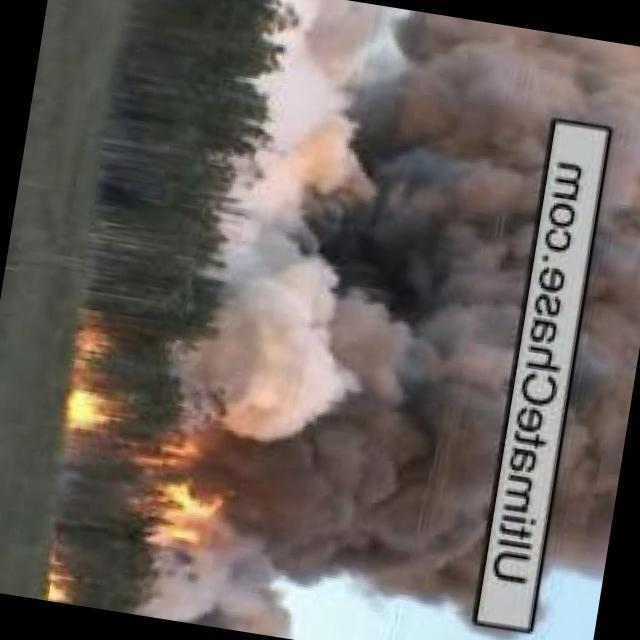Fire: (145, 447, 241, 560), (63, 388, 121, 436), (43, 554, 88, 607), (72, 329, 113, 364)
